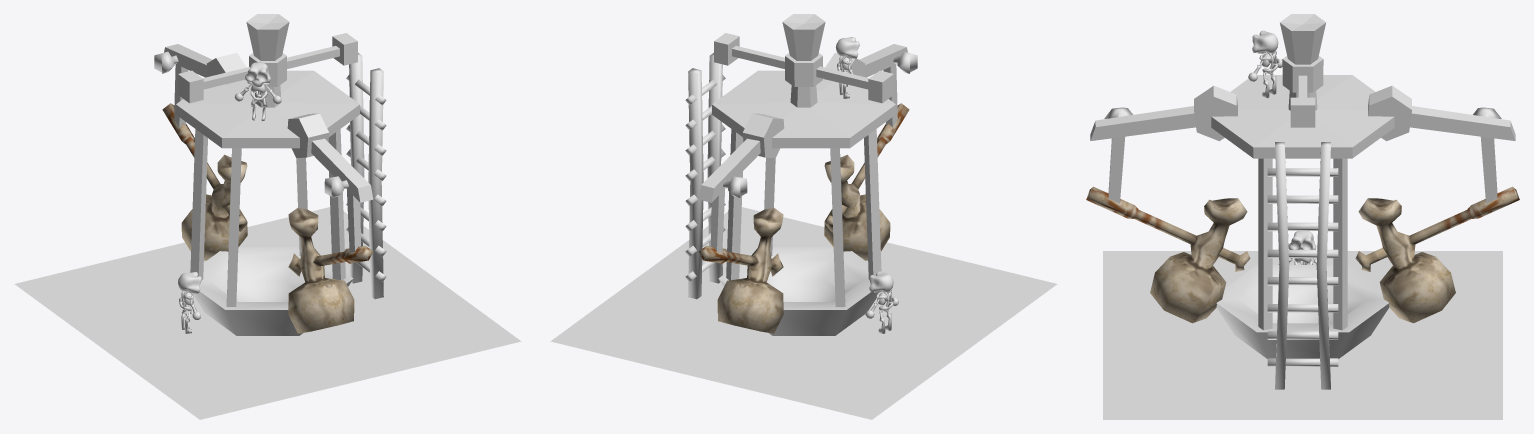
Rendered from grinder.fbx.
3 views of the same model, side by side, from view 1: azimuth 30°, elevation 25°; view 2: azimuth 150°, elevation 25°; view 3: azimuth 270°, elevation 25° (orthographic). The views are drawn at different scales.
Parts seen in each view (by area): view 1: Ground, Cylinder.001, HammerHandle, Cylinder, Cube.005, Cube.004, Cube.003, Cube.001, Cylinder.003, Cube.006, skelington, Cube.002 (+3 smaller); view 2: Ground, Cylinder.001, HammerHandle, Cylinder, Cube.005, Cube.004, Cube.003, Cube.001, Cylinder.003, Cube.006, skelington02, Cube.002 (+3 smaller); view 3: Ground, HammerHandle, Cylinder.001, Cylinder, Cube.004, Cube.005, Cube.001, Cube.006, Cylinder.003, Cube.002, skelington, Cylinder.002 (+3 smaller).
Boxes of the visible parts, x1,y1,x2,y2 form: Ground: [14, 207, 521, 419]; Cylinder.001: [176, 14, 359, 148]; HammerHandle: [162, 103, 373, 333]; Cylinder: [193, 247, 353, 335]; Cube.005: [190, 129, 345, 306]; Cube.004: [349, 53, 383, 299]; Cube.003: [178, 33, 357, 103]; Cube.001: [164, 44, 373, 202]; Cylinder.003: [206, 53, 329, 157]; Cube.006: [346, 74, 386, 281]; skelington: [234, 62, 281, 120]; Cube.002: [174, 64, 360, 252]; Ground: [550, 207, 1057, 419]; Cylinder.001: [712, 14, 895, 148]; HammerHandle: [698, 103, 909, 333]; Cylinder: [718, 247, 878, 335]; Cube.005: [726, 129, 881, 306]; Cube.004: [688, 53, 722, 299]; Cube.003: [714, 33, 893, 103]; Cube.001: [698, 44, 907, 202]; Cylinder.003: [742, 53, 865, 157]; Cube.006: [685, 74, 725, 281]; skelington02: [865, 271, 898, 333]; Cube.002: [711, 64, 897, 252]; Ground: [1103, 251, 1502, 419]; HammerHandle: [1086, 186, 1519, 323]; Cylinder.001: [1211, 14, 1394, 158]; Cylinder: [1216, 265, 1389, 358]; Cube.004: [1275, 142, 1330, 389]; Cube.005: [1258, 158, 1347, 330]; Cube.001: [1090, 106, 1515, 140]; Cube.006: [1267, 168, 1338, 366]; Cylinder.003: [1194, 85, 1411, 141]; Cube.002: [1108, 136, 1497, 203]; skelington: [1248, 30, 1282, 98]; Cylinder.002: [1282, 56, 1323, 92].
Bounding box in the file's own units: 800 × 691 × 868.
